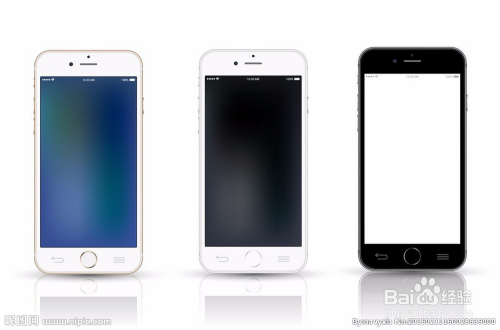phone: (31, 49, 145, 276), (196, 47, 308, 275), (356, 45, 469, 269)
